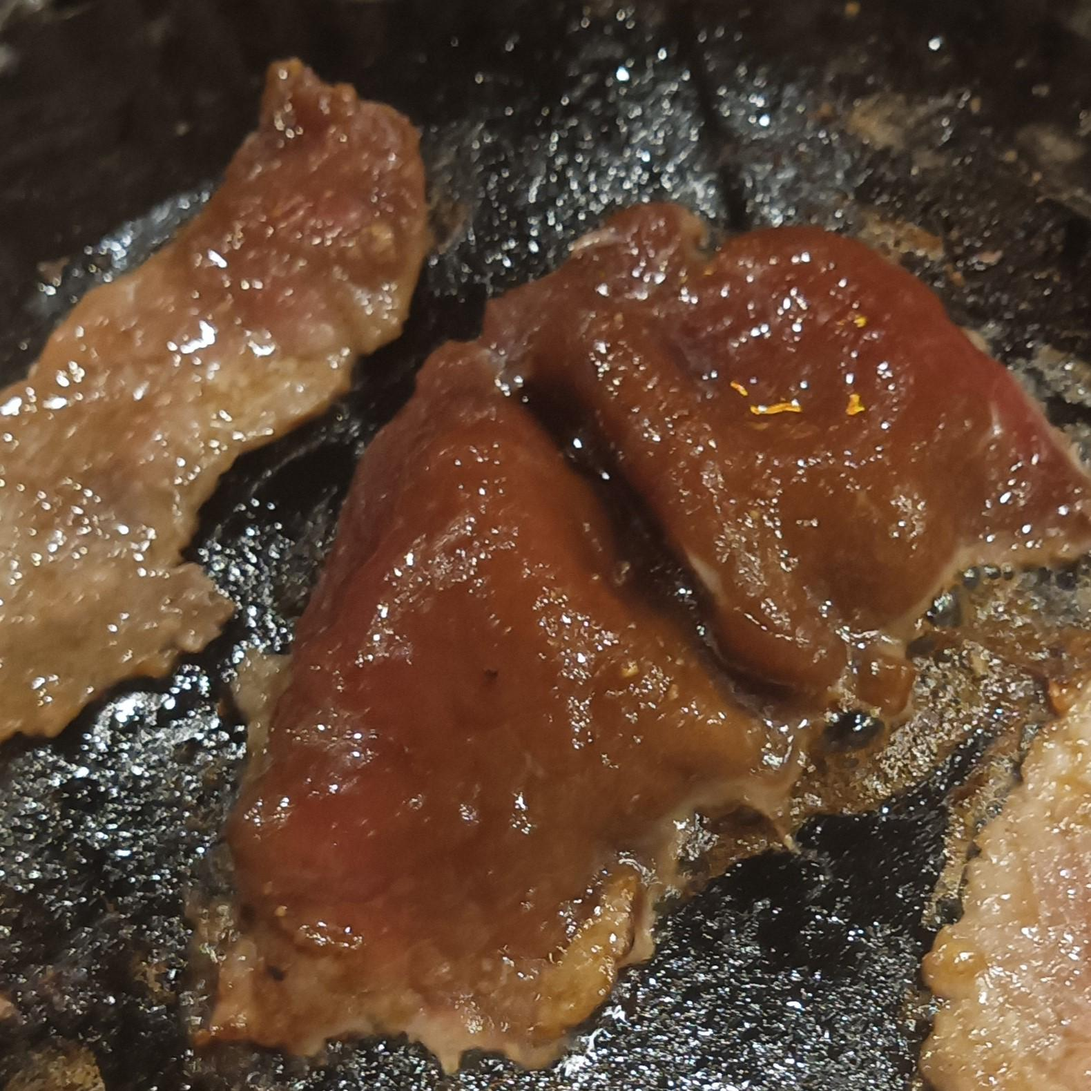Undercooked: (208, 204, 1090, 1076)
Well-Cooked: (0, 57, 437, 769), (916, 624, 1090, 1090)
